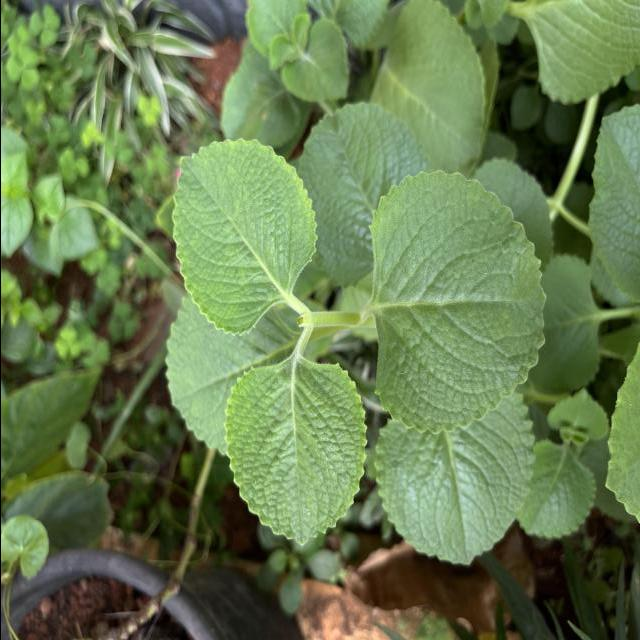Plectranthus barbatus: (367, 166, 546, 434), (169, 136, 319, 338), (372, 390, 536, 568), (221, 356, 368, 548), (514, 438, 596, 542), (280, 18, 350, 105)
